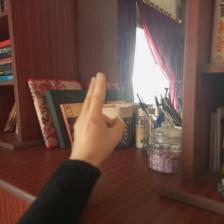two: (52, 67, 142, 179)
